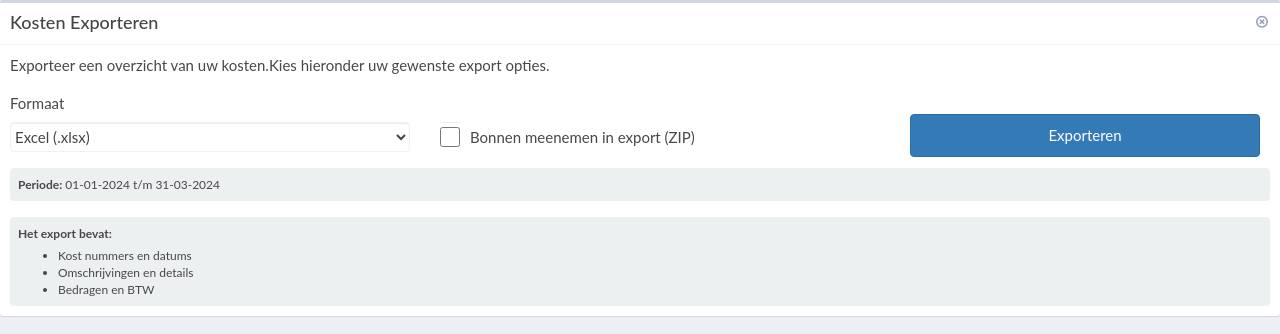
Test: ExpenseExport › shows the in-progress spinner and disables the button while exporting
Click the button "Exporteren". click: click(1085, 136)
box: [910, 114, 1260, 157]
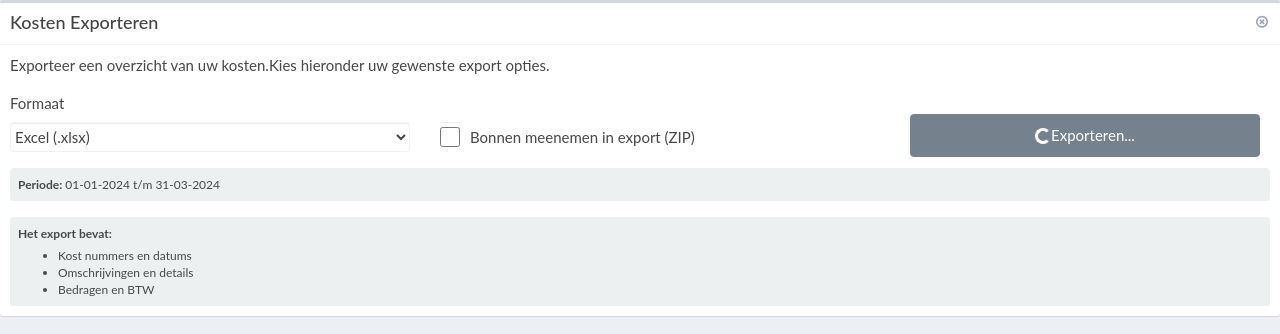
Expected: the button "Exporteren..." is disabled, [910, 114, 1260, 157]
